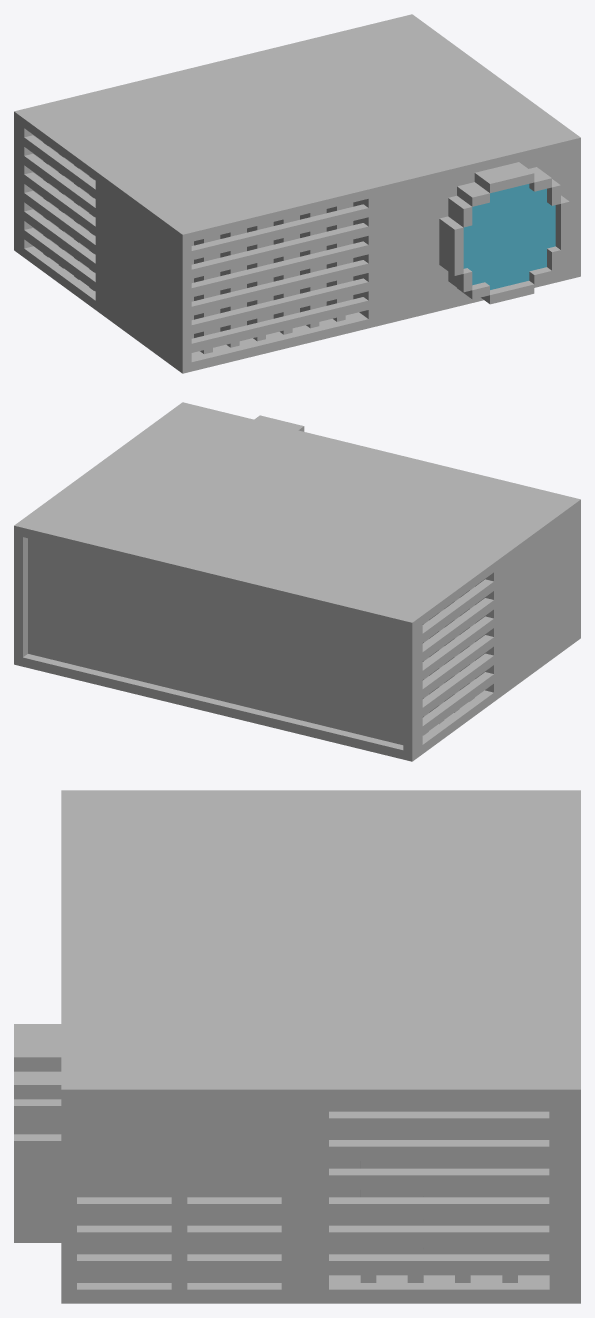
The model's file is Projector1.fbx.
3 renders of one model, top to bottom at view 1: azimuth 30°, elevation 25°; view 2: azimuth 150°, elevation 25°; view 3: azimuth 270°, elevation 25°, orthographic. The views are drawn at different scales.
Visible parts, largest first — view 1: Projector1.001; view 2: Projector1.001; view 3: Projector1.001.
Boxes of the visible parts, box(x1,y1,x2,y2) form: Projector1.001: box(14, 14, 580, 373); Projector1.001: box(14, 402, 580, 761); Projector1.001: box(14, 790, 580, 1303).
Size of the model in its own units: 4.5 by 1.5 by 3.6.
